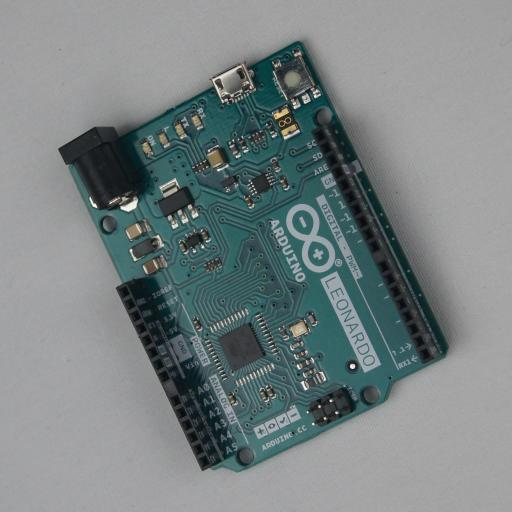Arduino Leonardo: (58, 41, 453, 472)
